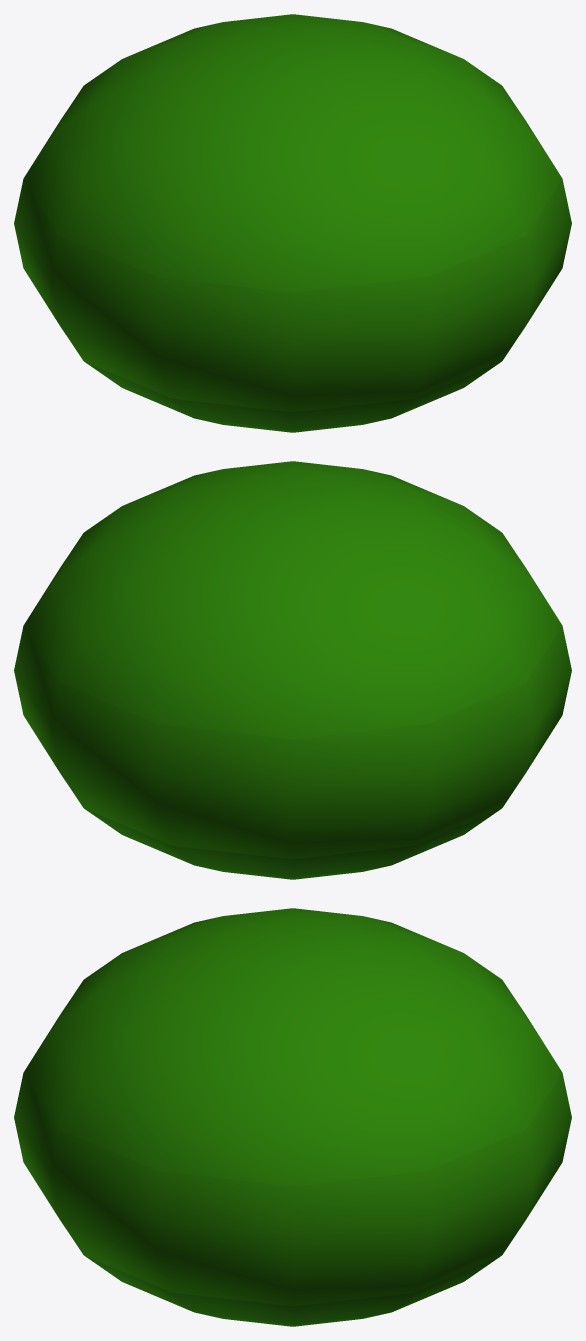
The model's file is bush-07_col.fbx.
3 views of the same model, one above another, from view 1: azimuth 30°, elevation 25°; view 2: azimuth 150°, elevation 25°; view 3: azimuth 270°, elevation 25° (orthographic).
Parts seen in each view (by area): view 1: bush-07.col; view 2: bush-07.col; view 3: bush-07.col.
Boxes of the visible parts, box(x1,y1,x2,y2) form: bush-07.col: box(14, 14, 571, 432); bush-07.col: box(14, 461, 571, 879); bush-07.col: box(14, 908, 571, 1326).
Bounding box in the file's own units: 0.1258 × 0.0864 × 0.1258.
Materials: 1 (1 with a texture image).
